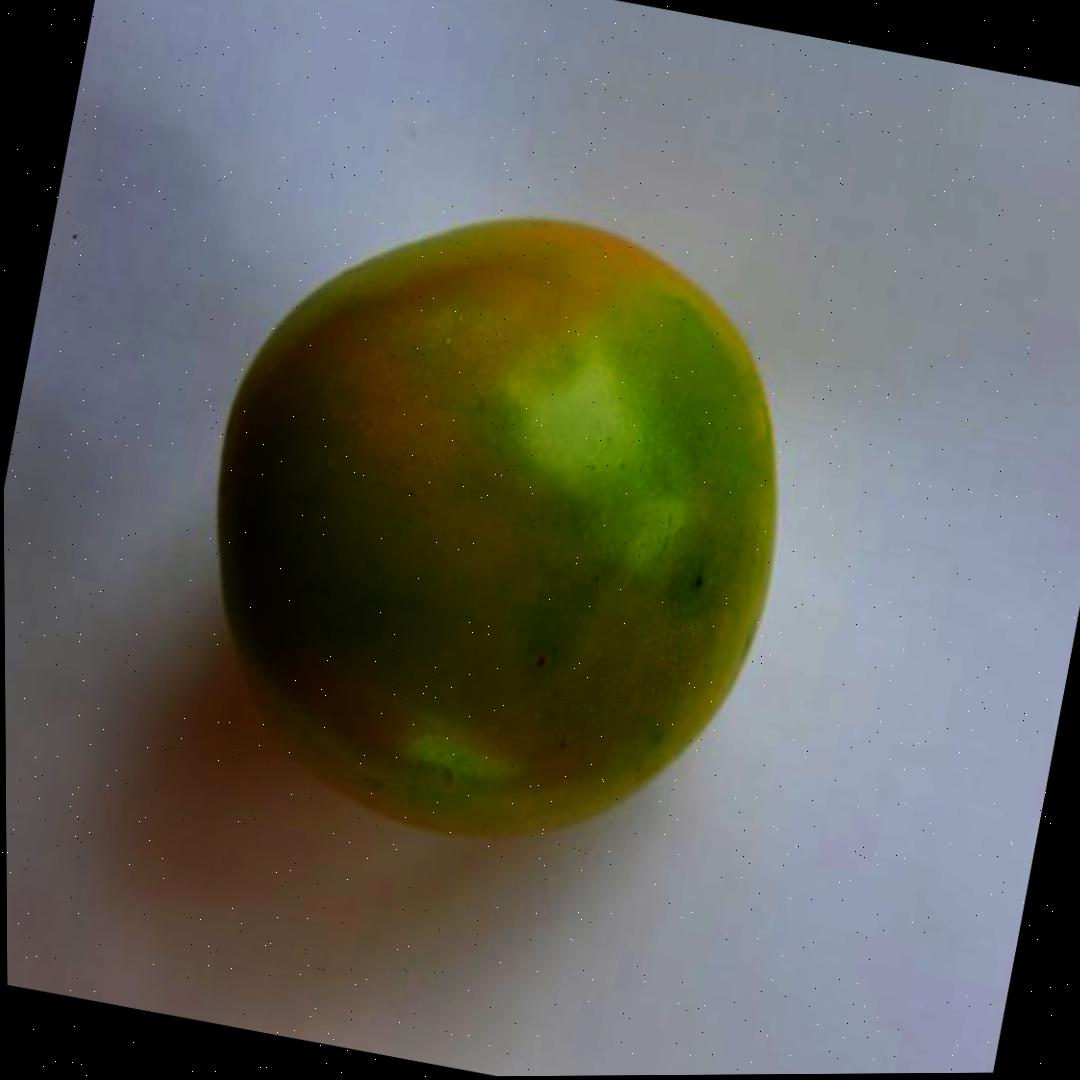setengah_matang: (145, 151, 846, 900)
